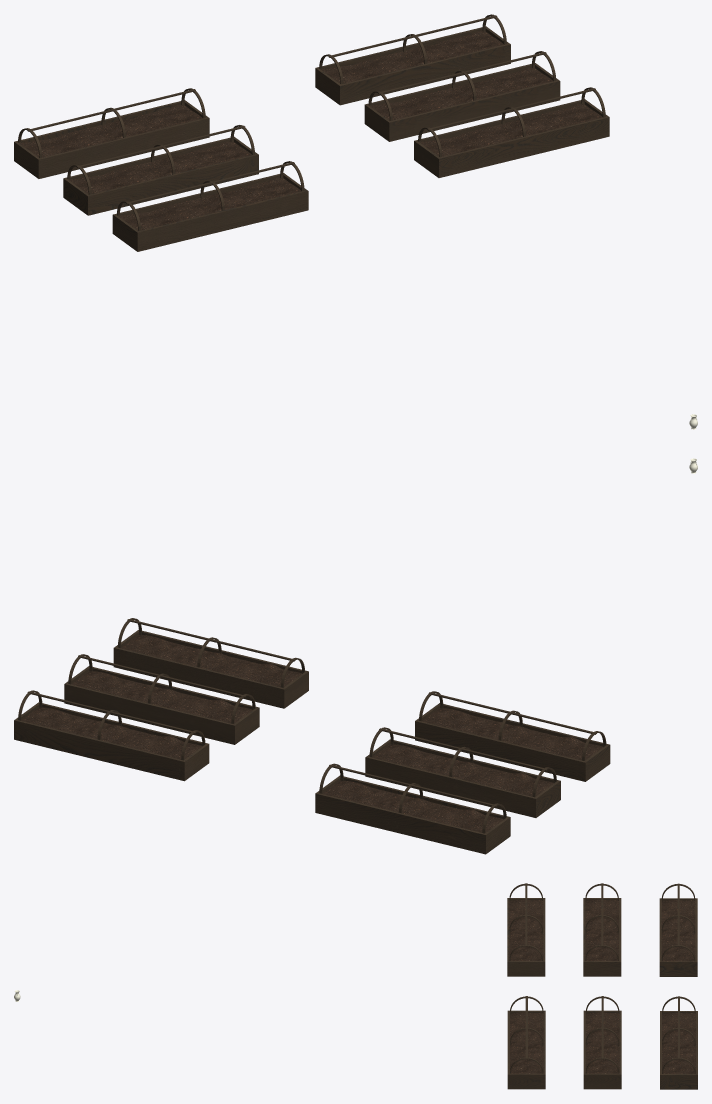
The model's file is MasetasInv.fbx.
3 views of the same model, one above another, from view 1: azimuth 30°, elevation 25°; view 2: azimuth 150°, elevation 25°; view 3: azimuth 270°, elevation 25° (orthographic). The views are drawn at different scales.
Visible parts, largest first — view 1: maseta.004, Tierra.001, Domo; view 2: maseta.004, Tierra.001, Domo; view 3: Tierra.001, maseta.004, Domo.
Part boxes in pixels (x1,y1,x2,y2): maseta.004: [14, 26, 609, 251]; Tierra.001: [20, 31, 602, 230]; Domo: [18, 14, 605, 230]; maseta.004: [14, 630, 610, 854]; Tierra.001: [21, 635, 602, 832]; Domo: [18, 618, 606, 833]; Tierra.001: [509, 899, 695, 1073]; maseta.004: [507, 898, 697, 1089]; Domo: [509, 883, 695, 1073].
Size of the model in its own units: 2201 by 177 by 3598.
3 materials, 3 textured.
